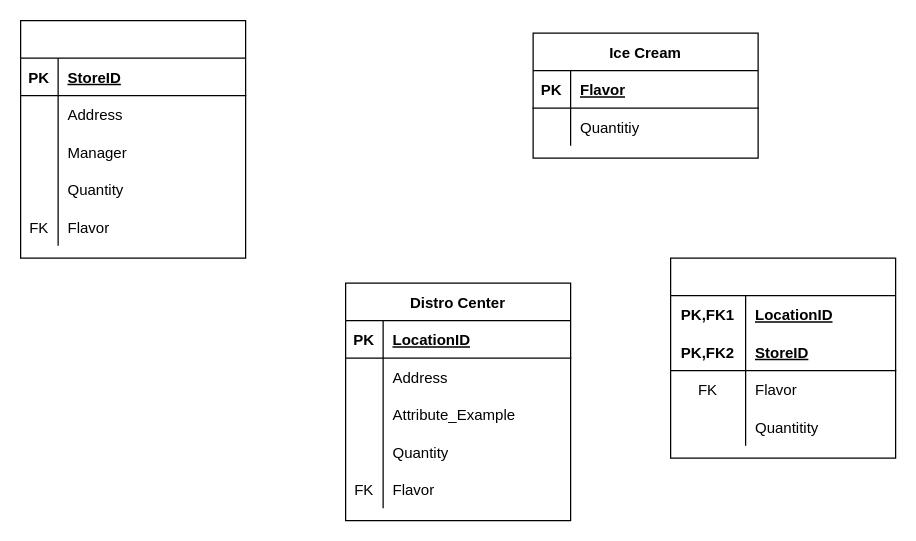
Image size: 916x541. Some labels were removed from this diagram. Here are the shapes that lost their labels. From the top down, the box of each, then its label:
(19, 19, 246, 258): Store Location
(669, 257, 896, 458): Table
